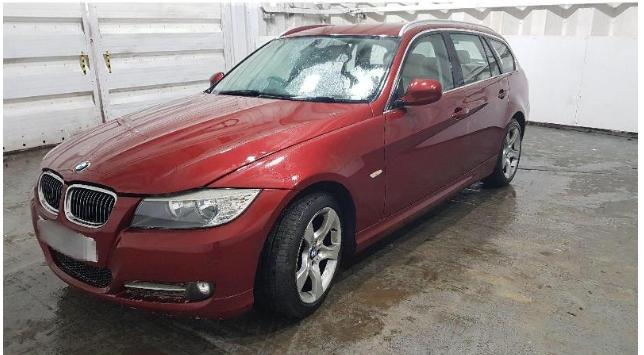Back-bumper: (522, 101, 530, 141)
Back-door: (443, 28, 509, 174)
Back-wheel: (480, 119, 522, 186)
Back-window: (444, 30, 516, 87)
Fender: (208, 114, 386, 234)
Front-bumper: (30, 183, 297, 320)
Front-door: (382, 28, 468, 220)
Front-wheel: (258, 188, 349, 320)
Front-window: (384, 30, 460, 113)
Grille: (38, 168, 118, 228)
Headlight: (129, 188, 262, 230)
Hood: (41, 91, 372, 197)
License-plate: (37, 216, 98, 262)
Mirror: (394, 79, 442, 106), (210, 72, 226, 87)
Quarter-panel: (504, 65, 529, 127)
Rocker-panel: (355, 153, 498, 253)
Roof: (278, 20, 490, 37)
Windshield: (205, 34, 402, 103)
